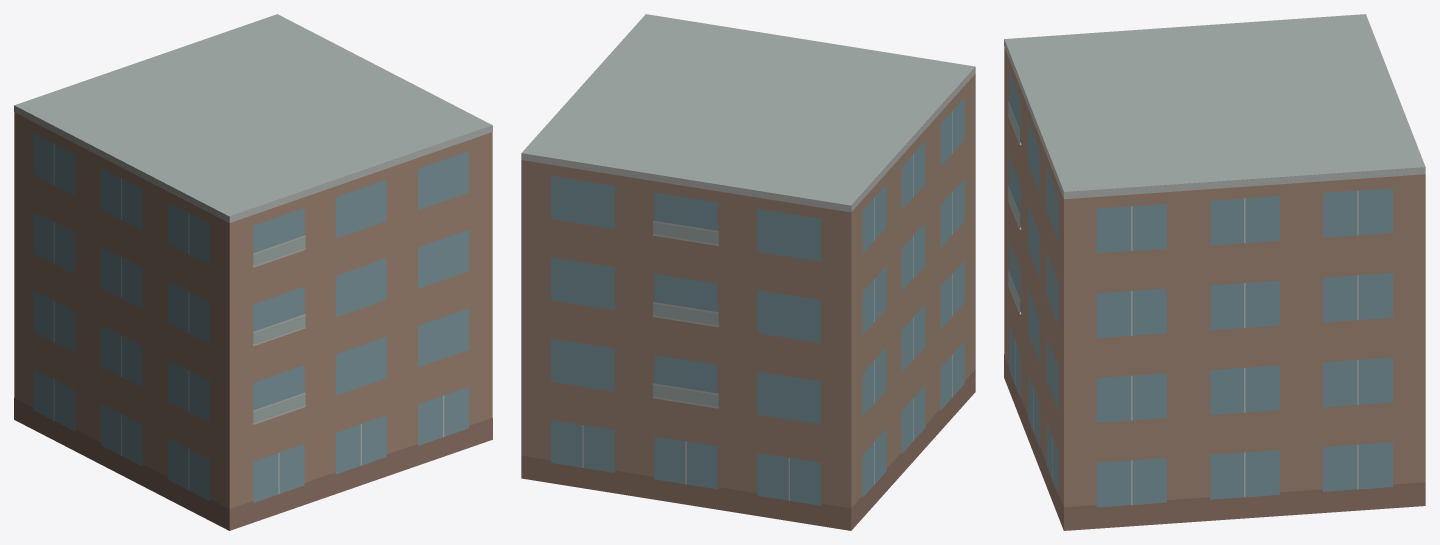
The model's file is survey-upis-32720214.glb.
The picture shows the model from 3 angles, left to right: view 1: azimuth 30°, elevation 25°; view 2: azimuth 150°, elevation 25°; view 3: azimuth 270°, elevation 25°; orthographic projection. The views are drawn at different scales.
Visible parts, largest first — view 1: survey-upis-32720214.tmp; view 2: survey-upis-32720214.tmp; view 3: survey-upis-32720214.tmp.
Part boxes in pixels (x1,y1,x2,y2): survey-upis-32720214.tmp: (14, 14, 492, 530); survey-upis-32720214.tmp: (521, 14, 975, 530); survey-upis-32720214.tmp: (1004, 14, 1425, 530).
Size of the model in its own units: 12.98 by 11.51 by 12.99.
